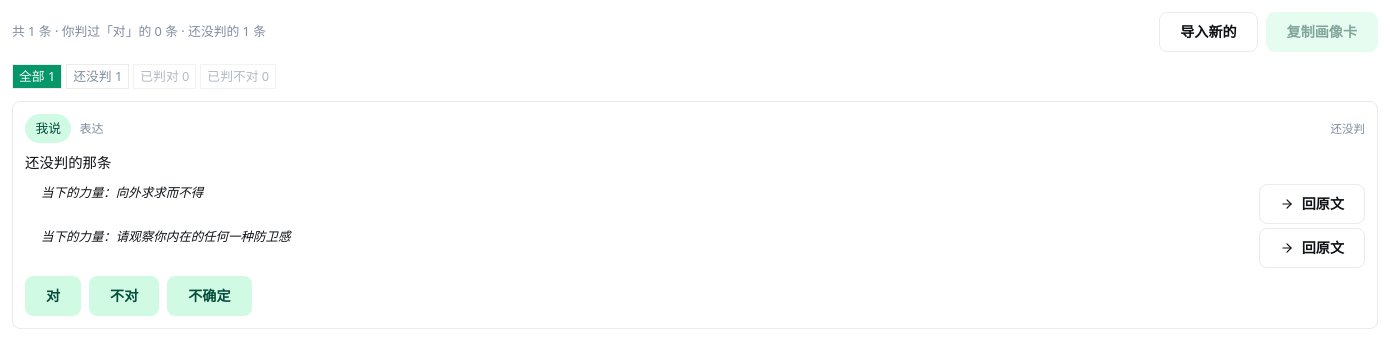
Test: 筛选：判过的能翻回来 › 这一档没有条目时说清是"这一档没有"，不是"你还没有结论"
Expected: the text "还没判的那条" is shown, [25, 153, 111, 172]
Click the button "已判对 0".
click(165, 77)  # box [133, 64, 196, 89]
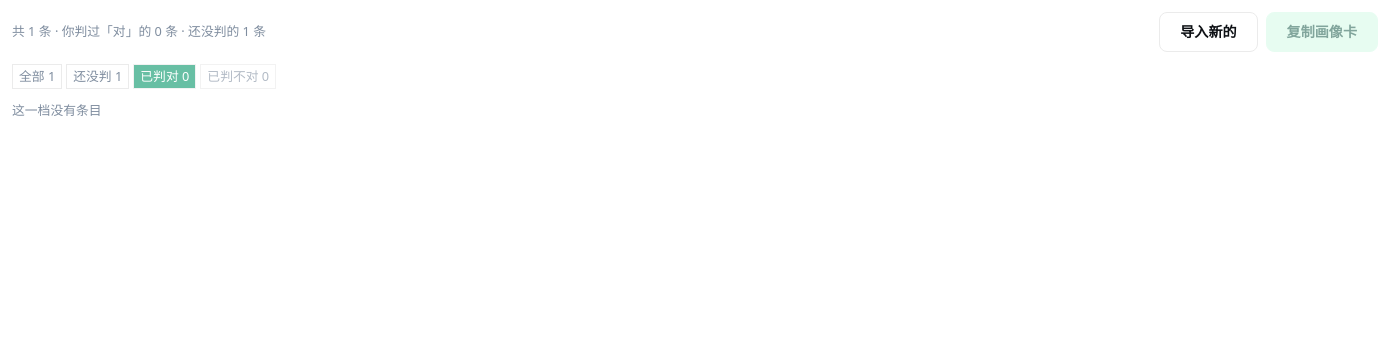
Expected: the text "这一档没有条目" is shown, [12, 101, 102, 119]
